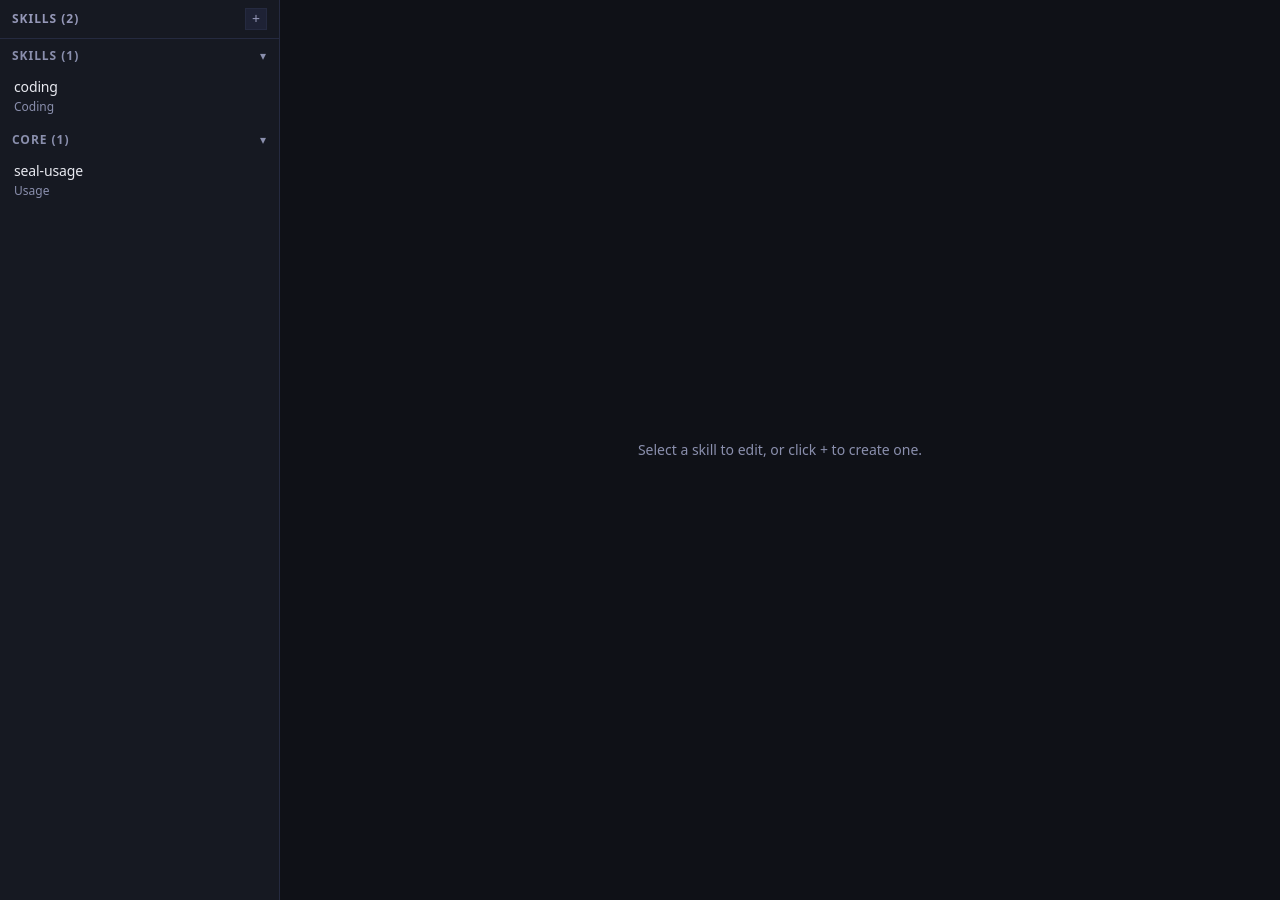
Scenario: SkillsView › expands a collapsed group when its header is clicked again
The image size is (1280, 900).
What coordinates should you click on to do the following:
click the element with test id "skill-group-header-core"
I would click on:
 (30, 140)
Its box is top-left (12, 131), bottom-right (267, 148).
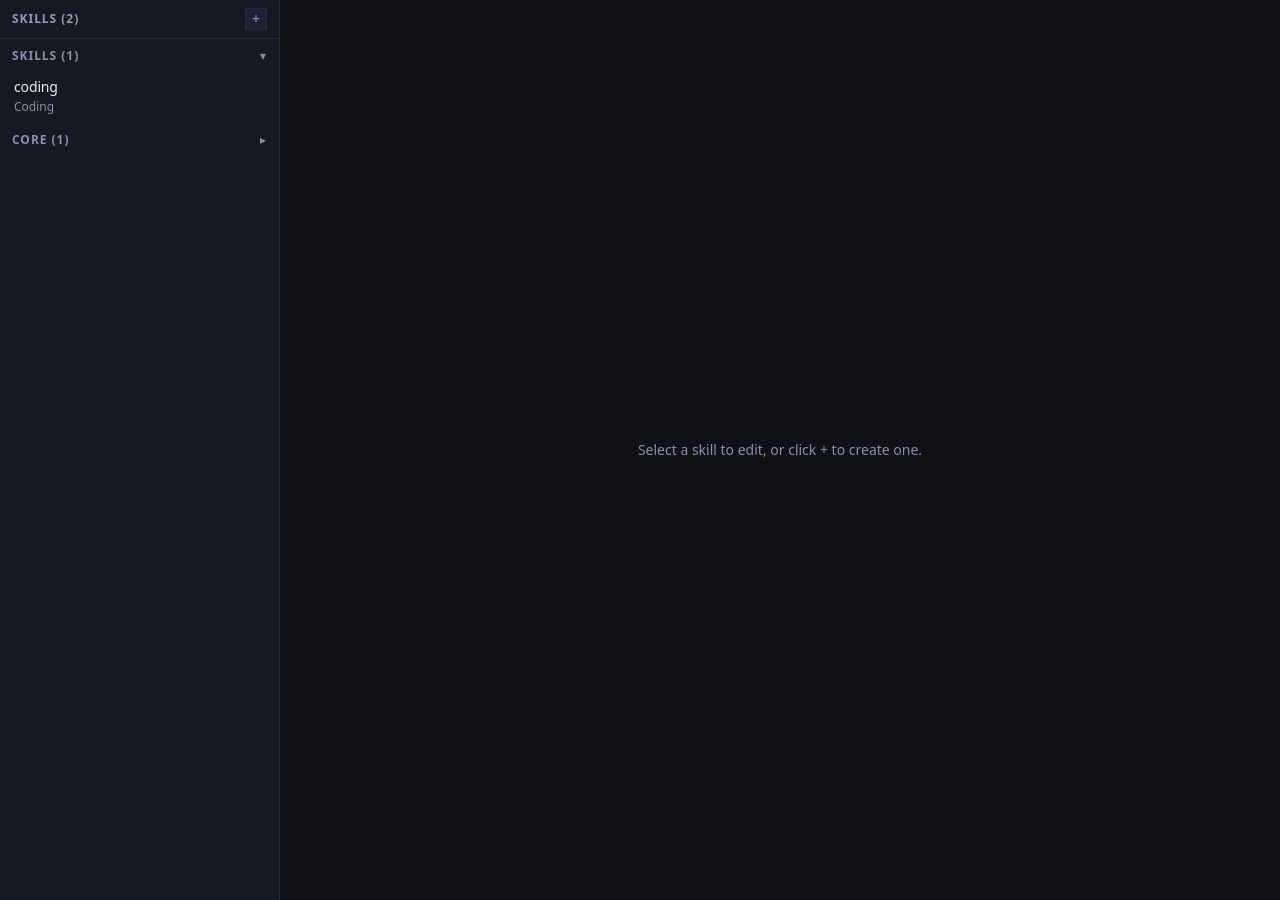
Result: the element with test id "skill-row-seal-usage" is gone
What coordinates should you click on to do the following:
click the element with test id "skill-group-header-core"
I would click on:
 (30, 140)
Its box is top-left (12, 131), bottom-right (267, 148).
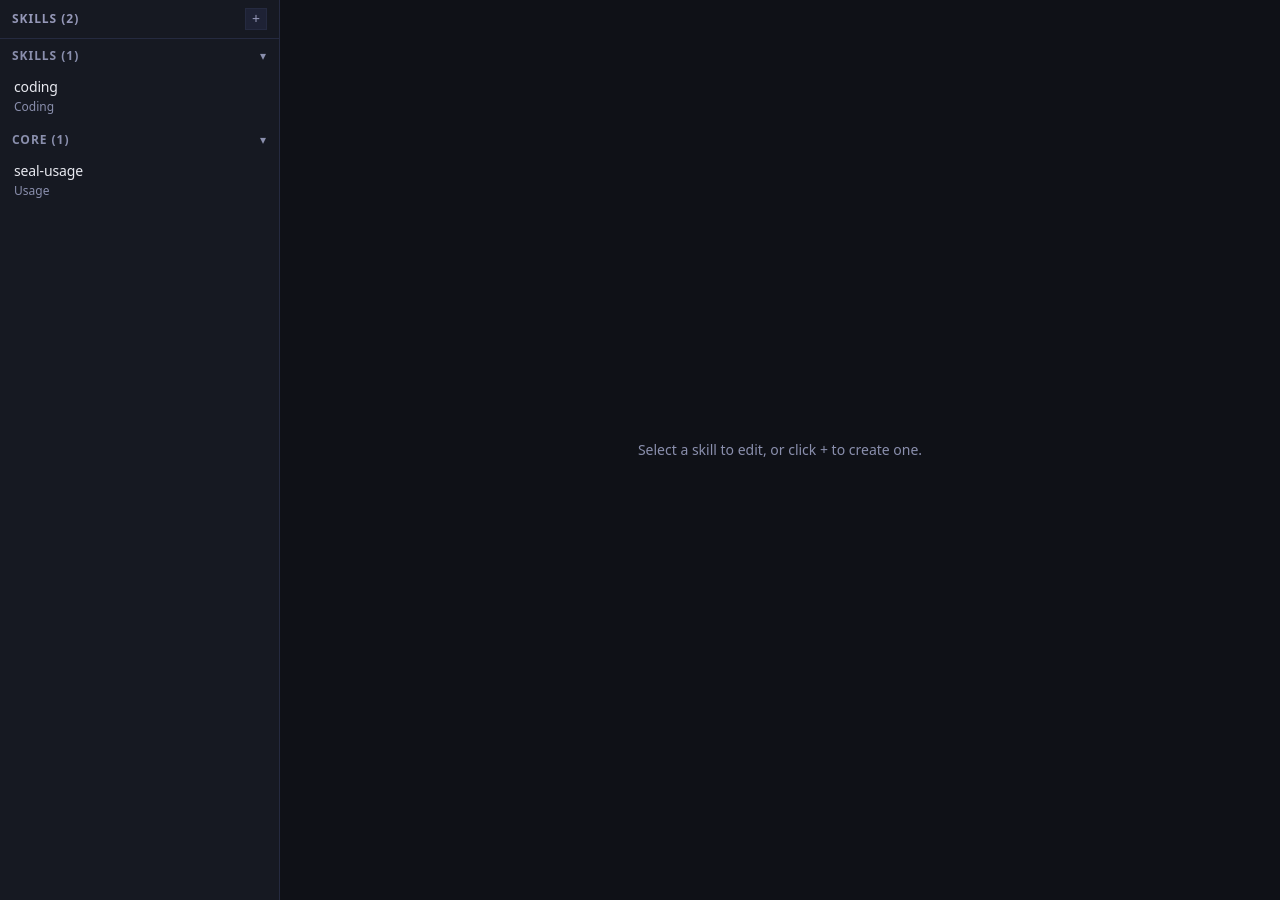
Result: the element with test id "skill-row-seal-usage" is shown at top-left (14, 161), bottom-right (83, 199)
